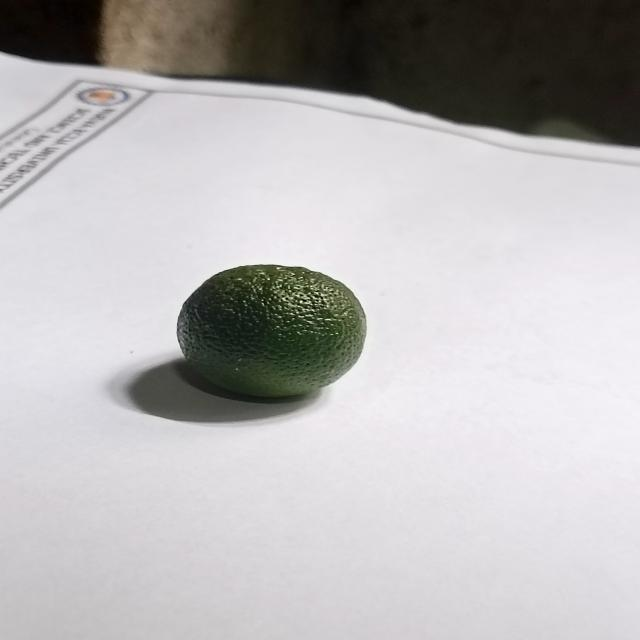heathy: (171, 256, 375, 404)
